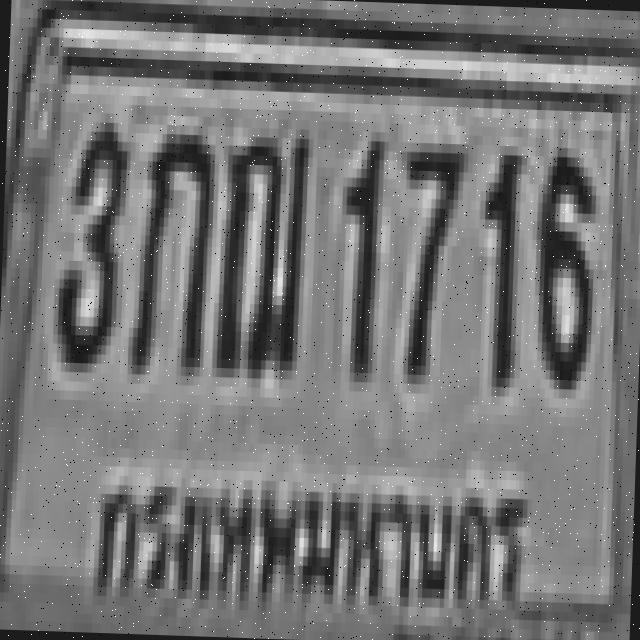1: (473, 140, 518, 382), (336, 126, 380, 368)
10GorGai: (127, 124, 211, 366)
28NorNen: (212, 117, 310, 370)
3: (52, 112, 126, 364)
6: (532, 137, 594, 380)
7: (394, 132, 460, 376)
Bangkok: (84, 450, 536, 638)
